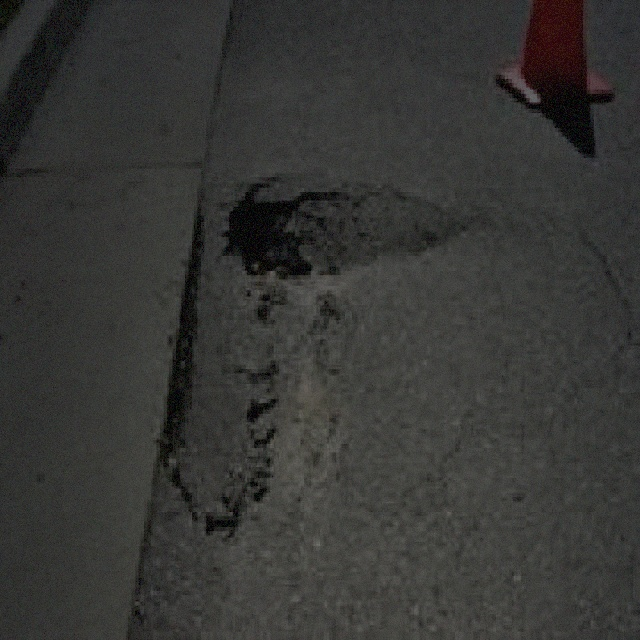pothole: (153, 179, 283, 542), (220, 179, 468, 282)
